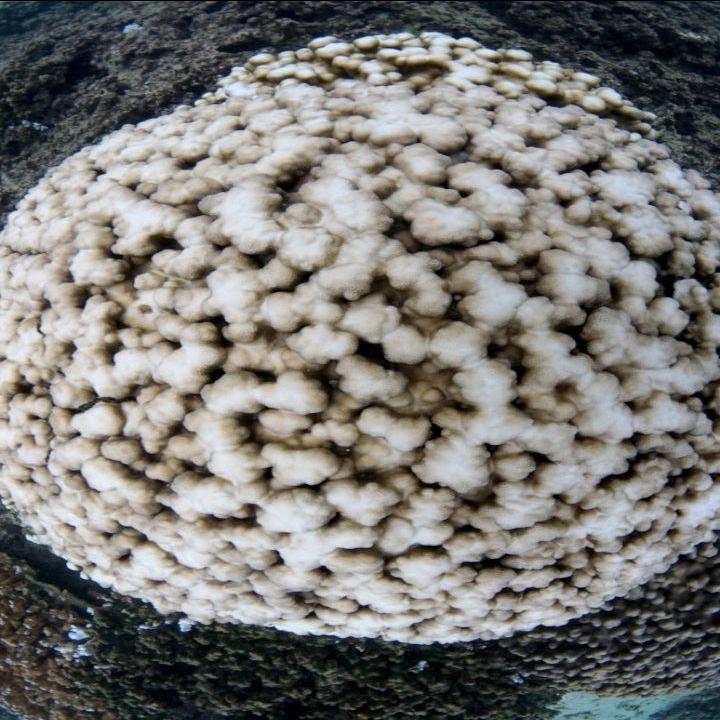Dead Coral: (29, 46, 681, 672)
